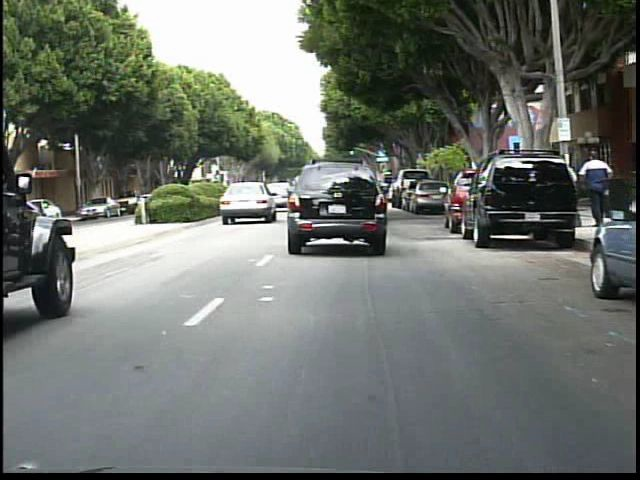person: (578, 149, 614, 224), (548, 154, 578, 225)
